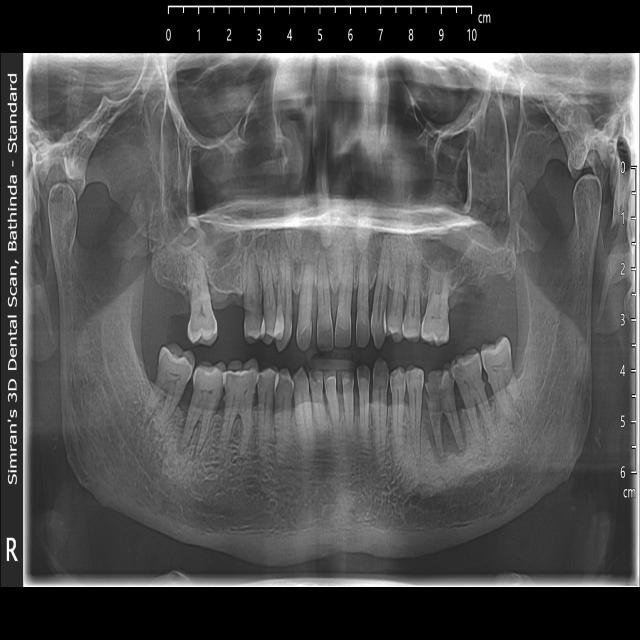Caries: (424, 369, 449, 429)
Mandibular Canal: (418, 279, 577, 505), (85, 331, 242, 517)
Missing teeth: (447, 277, 486, 340), (207, 285, 246, 339)
Periapical lesion: (422, 411, 470, 465), (174, 428, 193, 459)
maxillary sinus: (400, 77, 512, 274), (159, 89, 278, 272)
